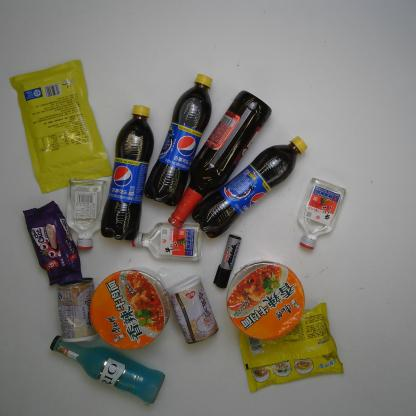Alcohol: (166, 90, 272, 231), (49, 332, 169, 405), (297, 176, 347, 251), (131, 218, 205, 262), (65, 179, 108, 250)
Canned Food: (167, 275, 221, 346), (56, 276, 102, 344)
Dessert: (22, 200, 83, 286)
Dried Fruit: (8, 57, 118, 193)
Drink: (192, 136, 309, 239), (145, 74, 216, 206), (100, 103, 156, 242)
Instant Noodles: (234, 300, 347, 392), (88, 269, 172, 350), (226, 260, 304, 339)
Stationery: (210, 233, 243, 290)
